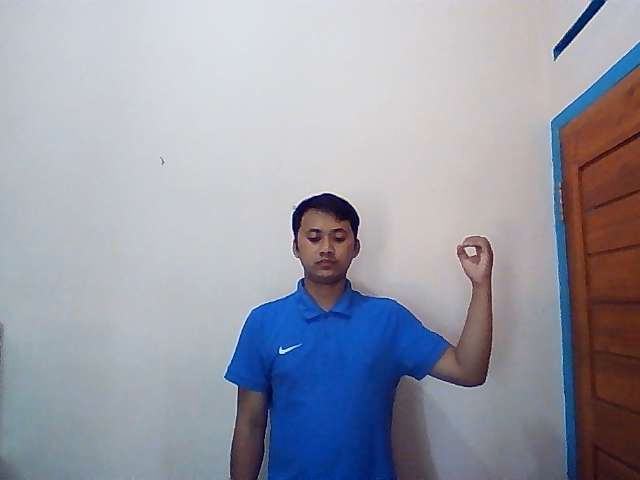O: (455, 233, 497, 284)
